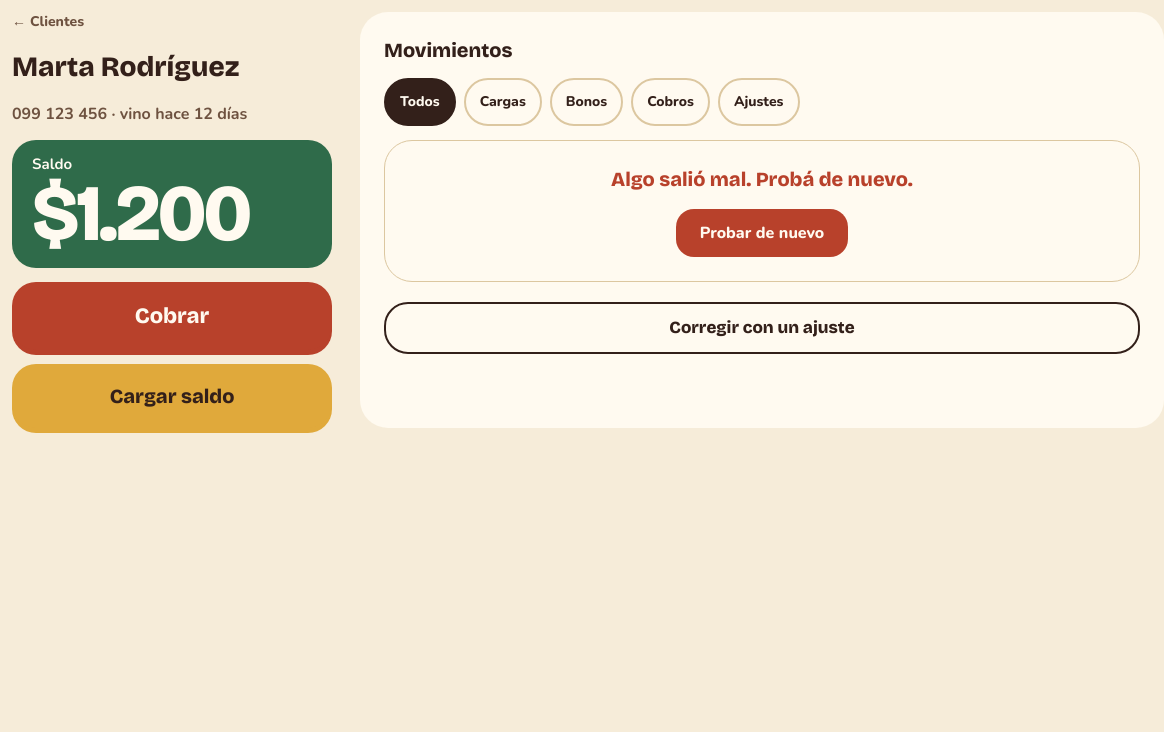
Test: Ficha del cliente › si fallan los movimientos, igual muestra al cliente y deja reintentar
The width and height of the screenshot is (1164, 732).
Expected: the message shows "Algo salió mal", [611, 167, 913, 191]
Expected: the text "$1.200" is shown, [32, 166, 249, 262]
Click the button "Probar de nuevo" at (762, 233), box [676, 209, 848, 257]
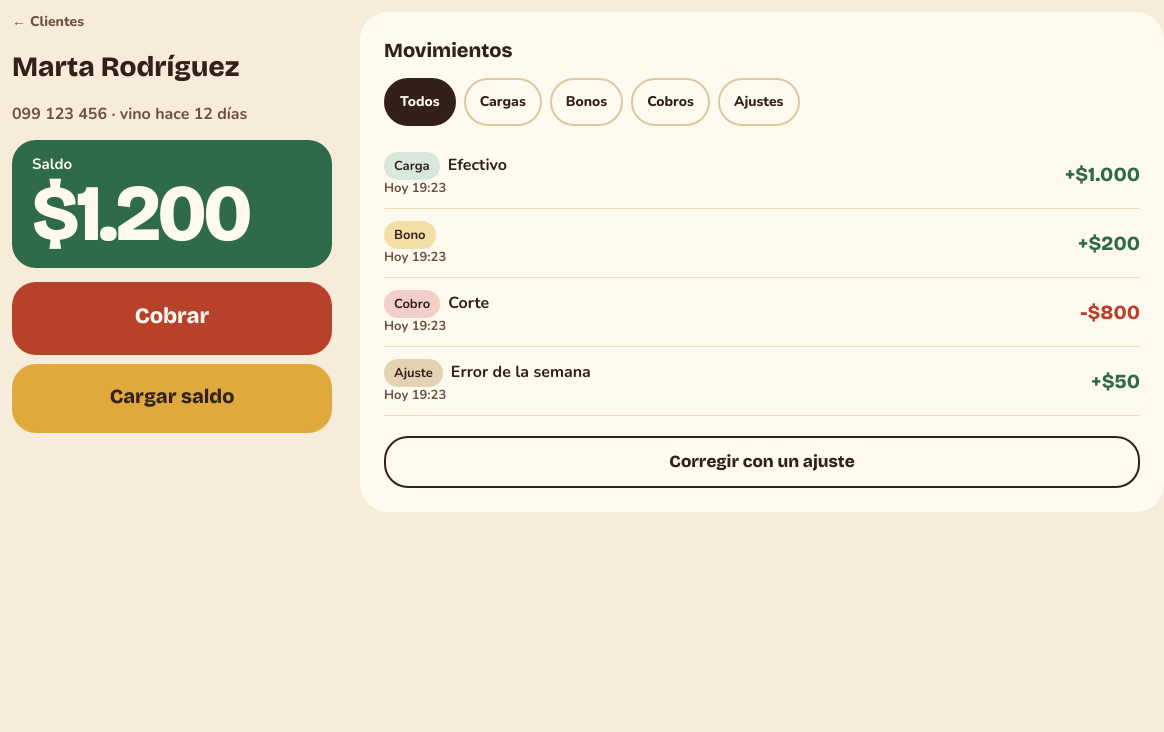
Expected: the text "+$1.000" is shown, [1065, 160, 1140, 188]
